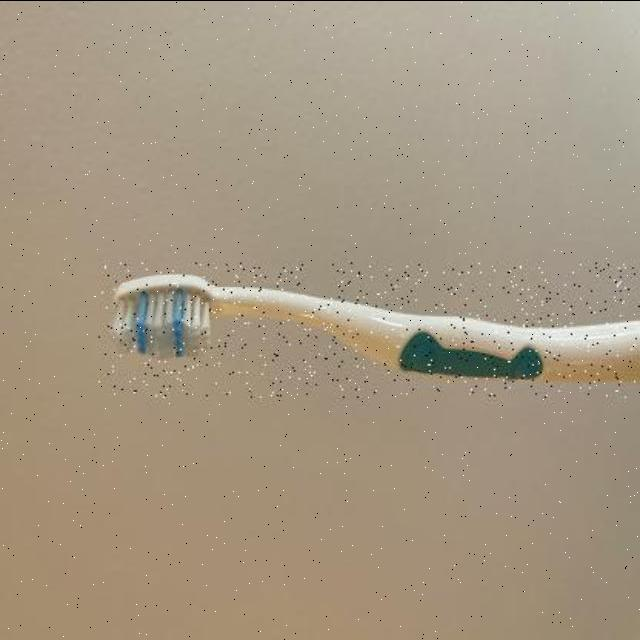toothbrush: (98, 262, 640, 396)
